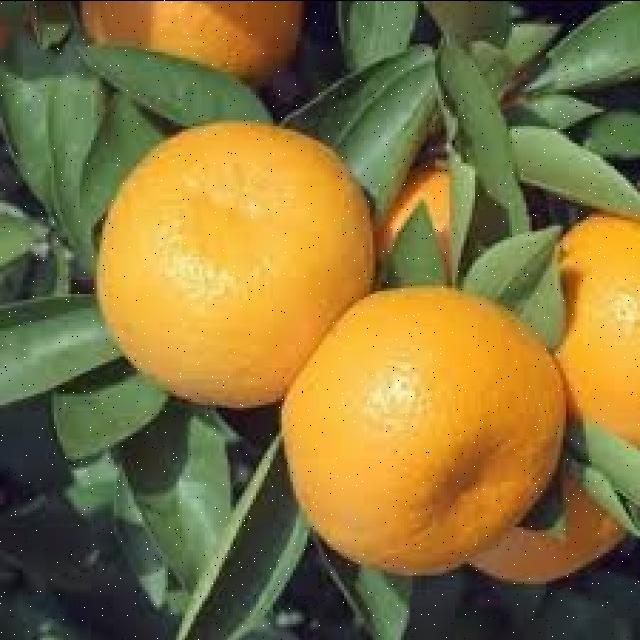Orange: (276, 288, 568, 576)
